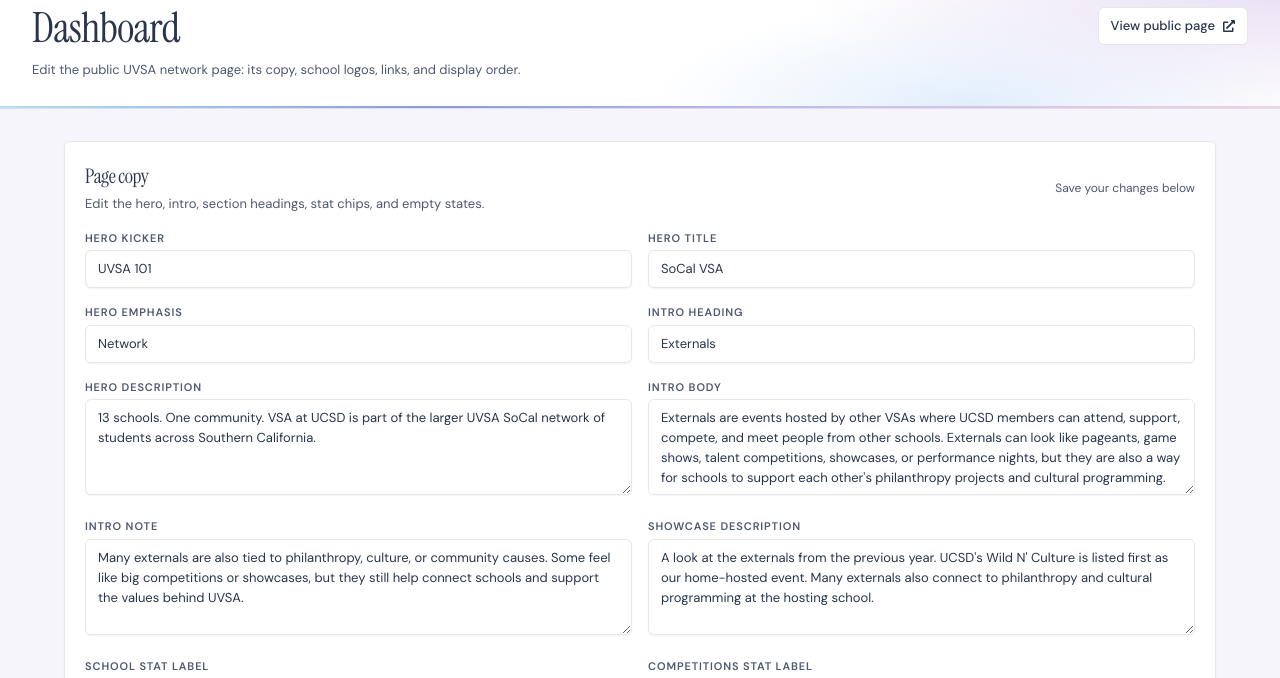
Test case: UVSA Network copy shared form shell (#258) › saves changed copy and supports explicit discard without writing
The image size is (1280, 678).
Replace the text in the field labelled "Hero title" with "New synthetic title". click: [922, 269]
box: [648, 250, 1195, 288]
(page scrolled)
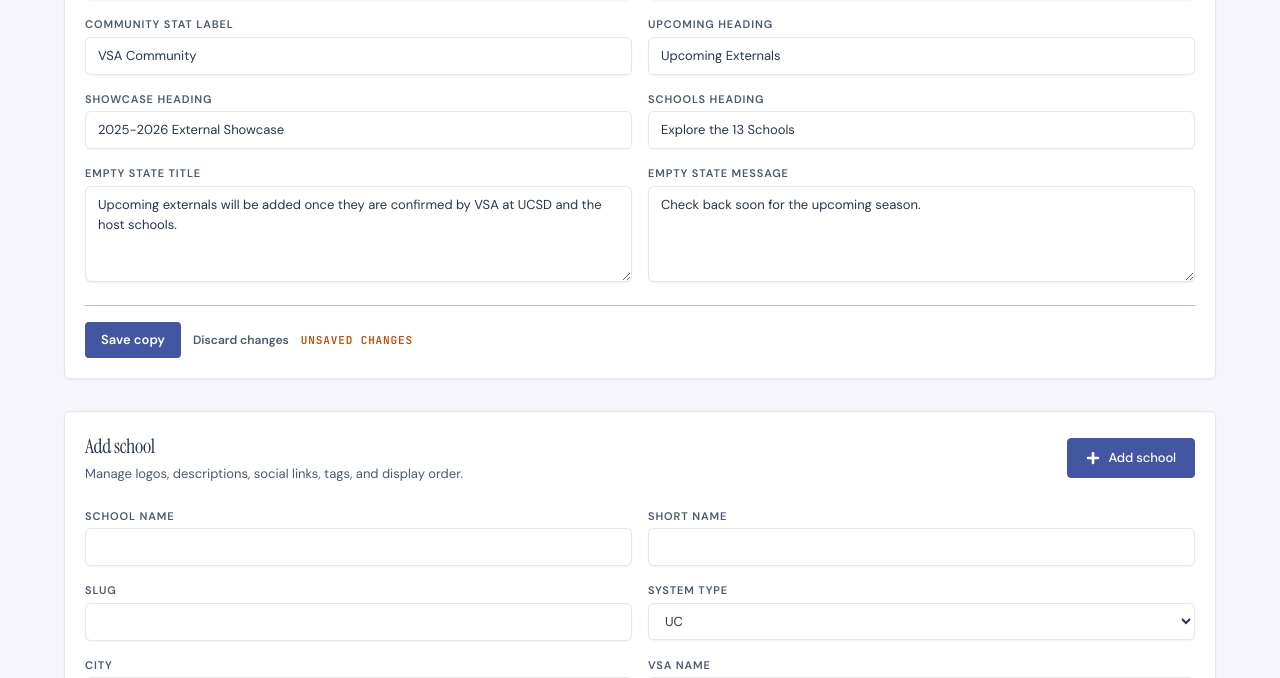
Result: the button "Save copy" is enabled at [85, 322, 181, 358]
Click the button "Discard changes". click: [241, 340]
box: [193, 332, 289, 348]
(page scrolled)
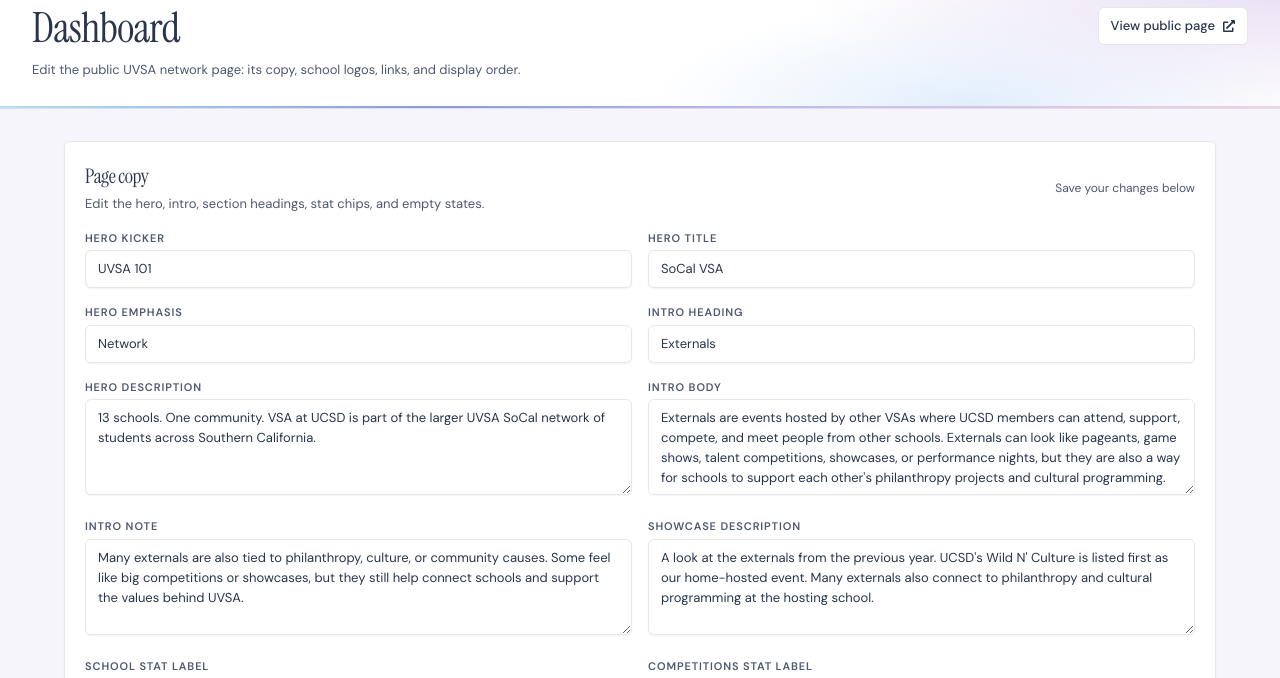
Result: the field labelled "Hero title" holds "SoCal VSA"
Replace the text in the field labelled "Hero title" with "Approved new title". click: [922, 269]
box: [648, 250, 1195, 288]
(page scrolled)
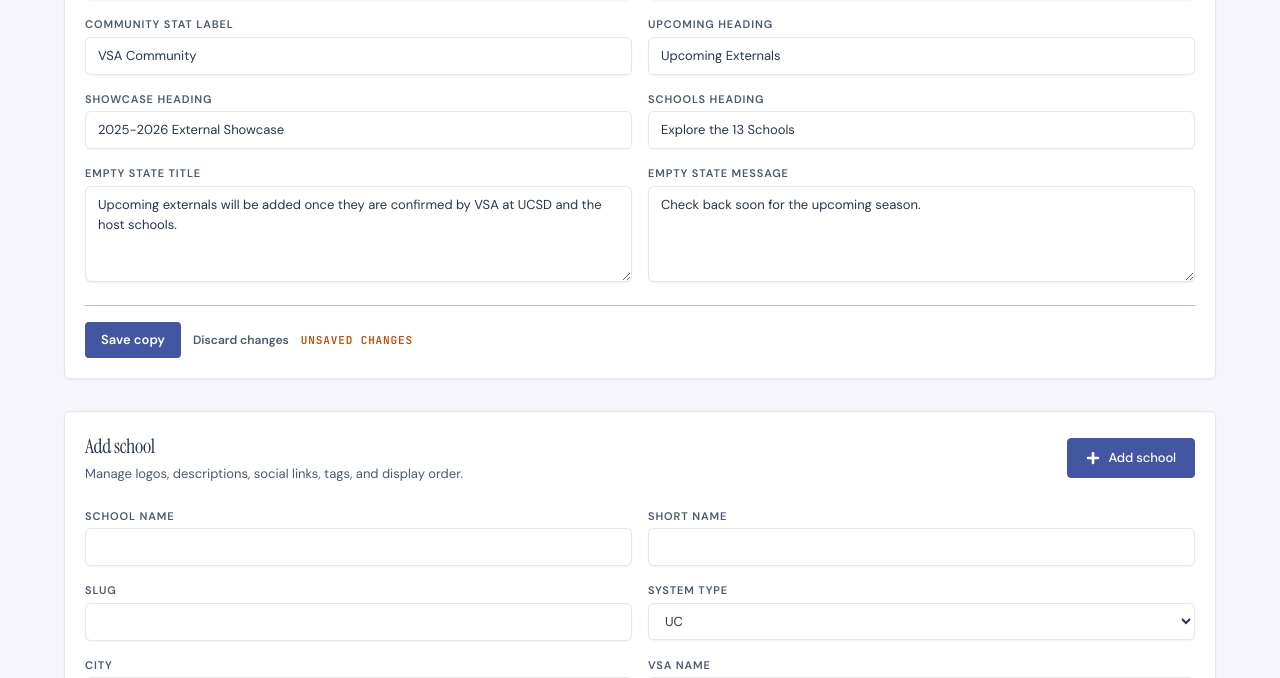
Click the button "Save copy". click: [133, 340]
box: [85, 322, 181, 358]
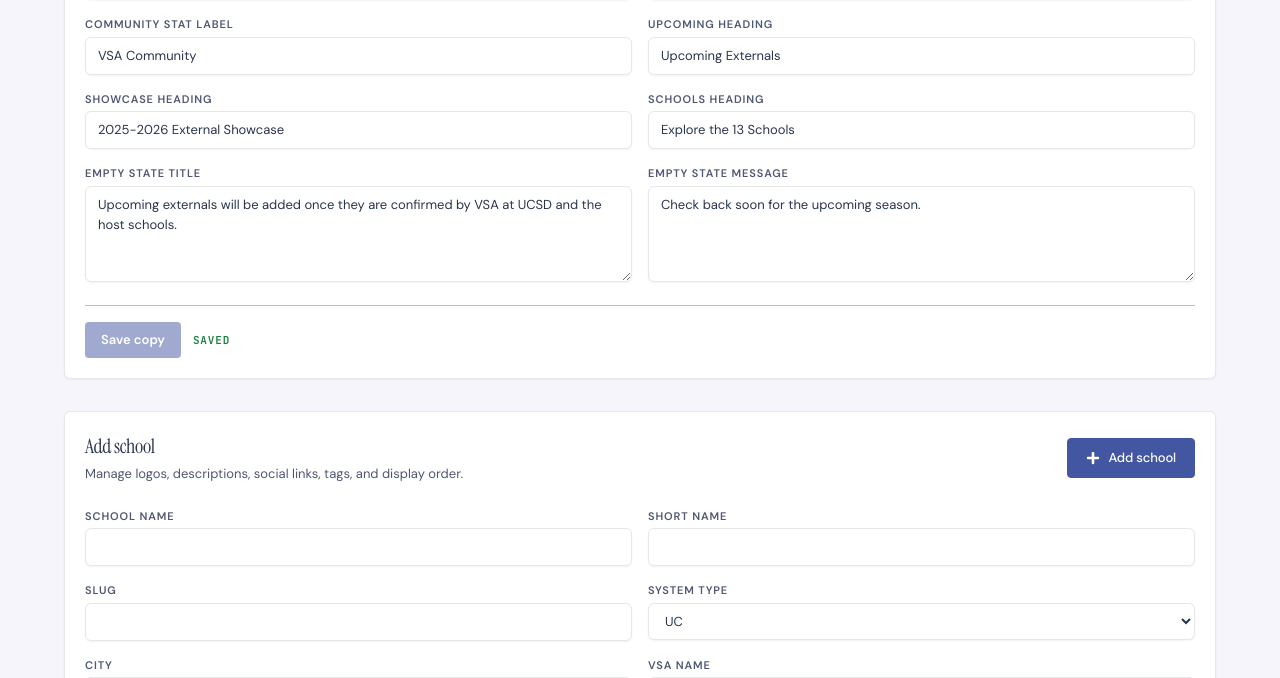
Result: the button "Save copy" is disabled at [85, 322, 181, 358]
